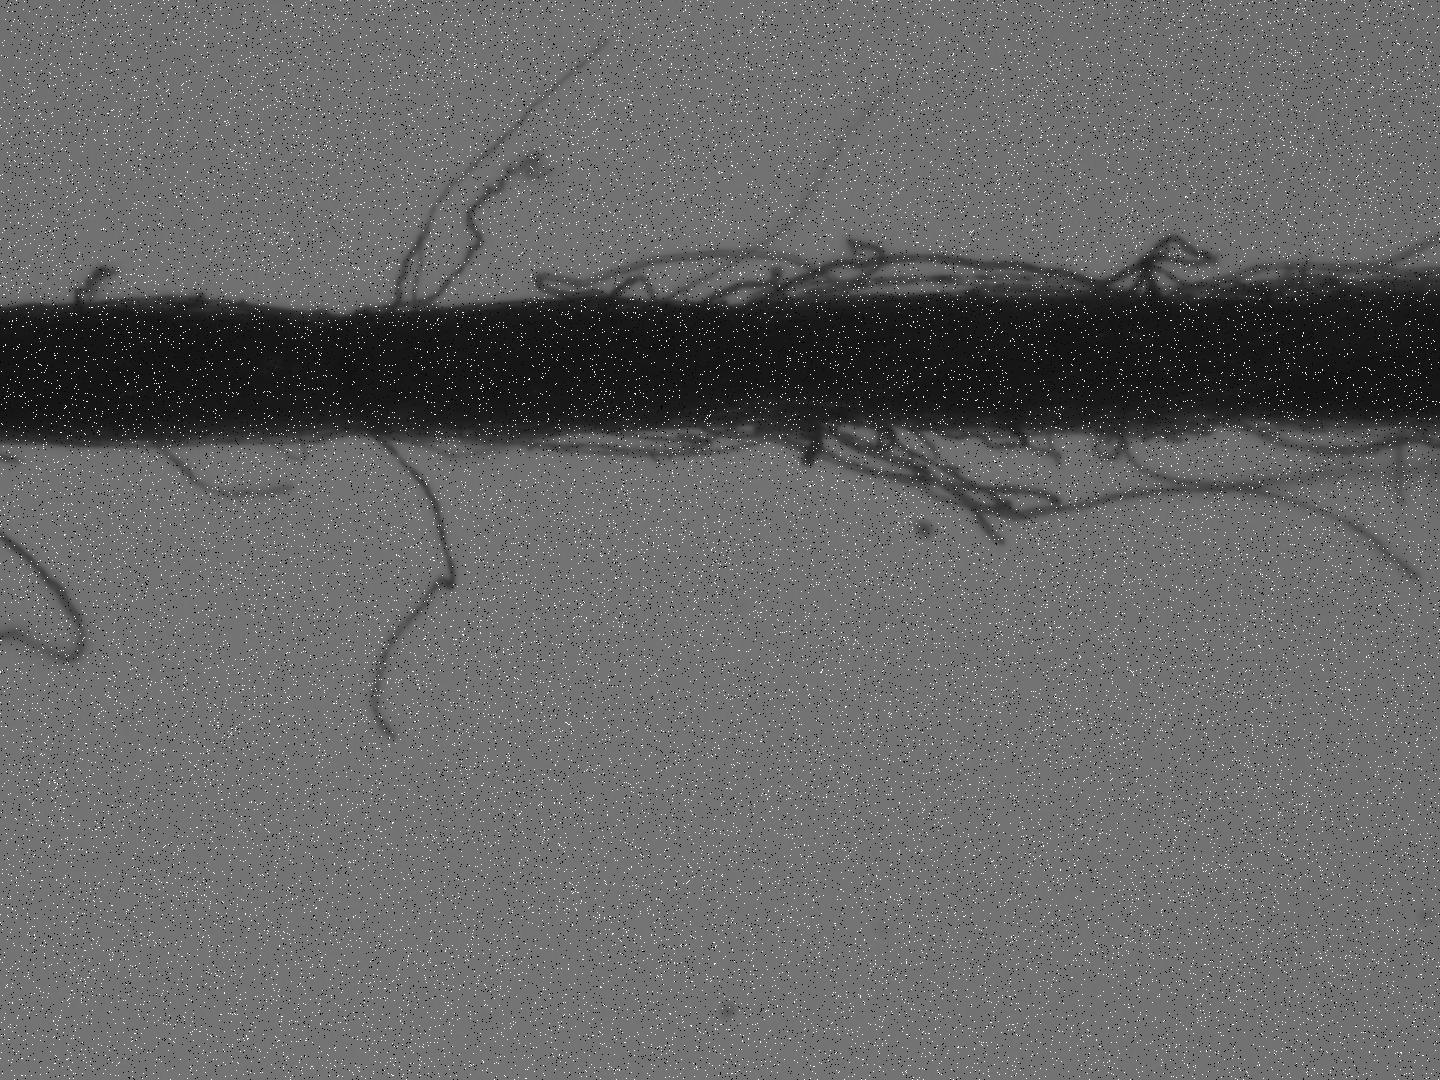loop_fiber: (757, 251, 1130, 313), (464, 412, 836, 464), (1184, 258, 1425, 297), (798, 412, 888, 449), (923, 422, 1026, 452), (704, 277, 794, 310), (755, 411, 852, 438), (349, 295, 433, 321), (598, 272, 660, 303), (1086, 429, 1127, 463)
protruding_fiber: (391, 35, 615, 312), (361, 429, 460, 741), (150, 437, 304, 507), (69, 265, 113, 309)
